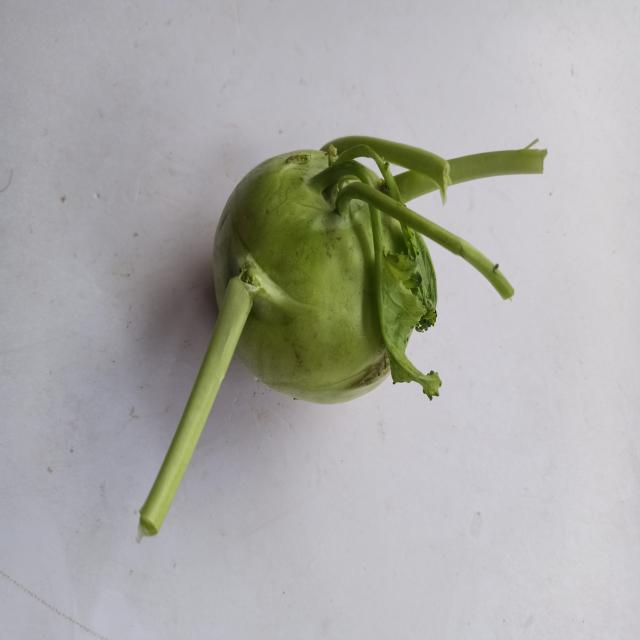Turnip: (130, 122, 548, 550)
